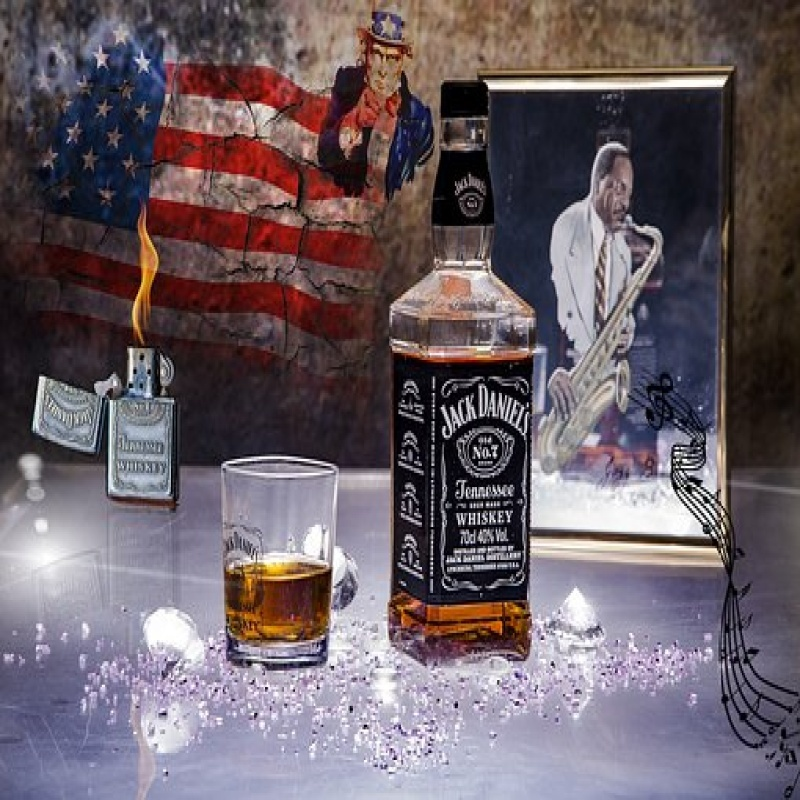whiskey: (210, 453, 352, 670)
